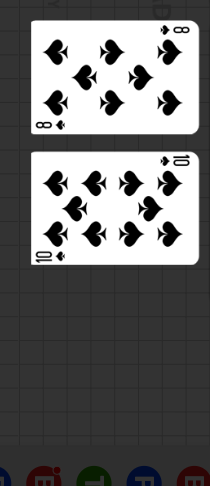10S: (34, 249, 68, 264)
8S: (157, 24, 191, 37)
